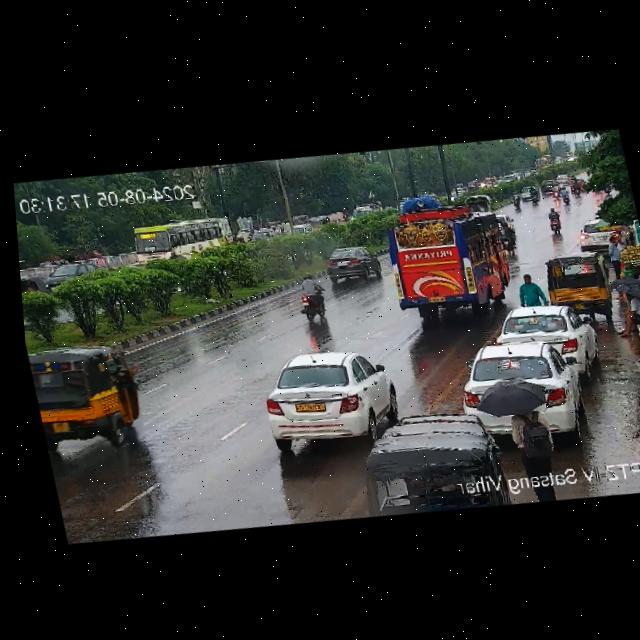bus: (376, 189, 534, 333), (126, 213, 238, 274)
car: (246, 340, 399, 455), (451, 334, 591, 423), (490, 298, 599, 374), (538, 248, 618, 314), (320, 246, 384, 288), (20, 270, 42, 303)
motorcycle: (294, 272, 327, 320), (499, 222, 519, 255), (549, 179, 570, 203), (547, 208, 564, 234), (528, 185, 538, 204), (512, 191, 521, 209)
person: (503, 403, 559, 471), (610, 290, 640, 341), (511, 273, 546, 310)
truck: (26, 336, 149, 452)
